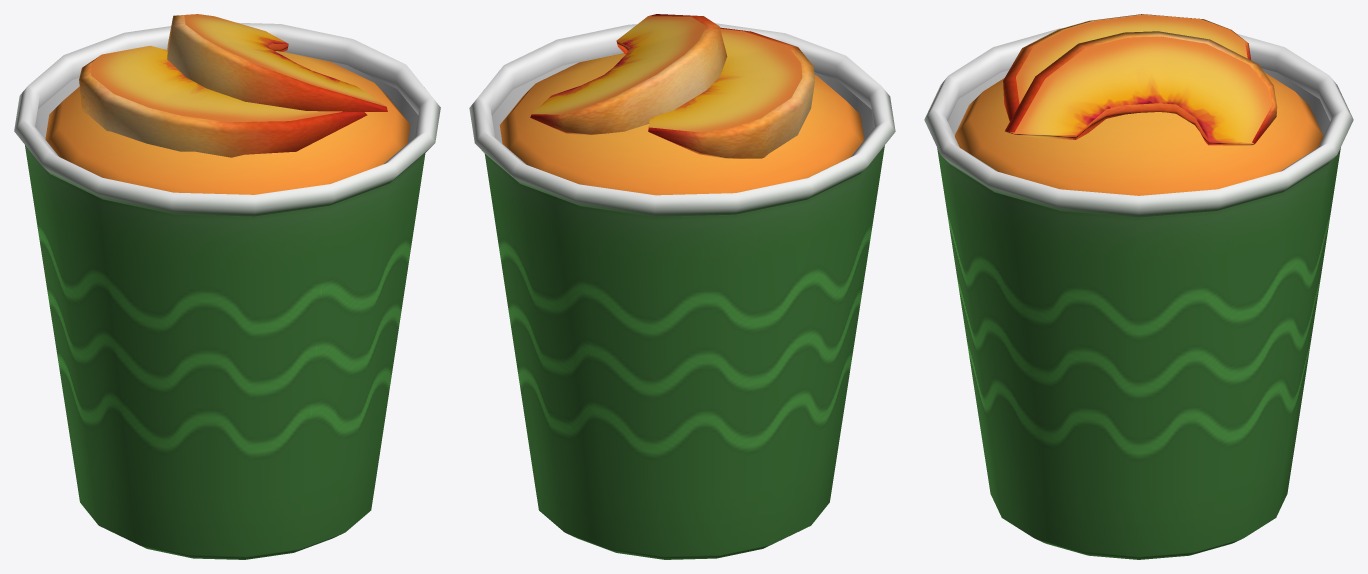
File: 011-Parfait_03.FBX
3 views of the same model, side by side, from view 1: azimuth 30°, elevation 25°; view 2: azimuth 150°, elevation 25°; view 3: azimuth 270°, elevation 25° (orthographic).
Visible parts, largest first — view 1: 011-Parfait_03-2, 011-Parfait_03-1; view 2: 011-Parfait_03-2, 011-Parfait_03-1; view 3: 011-Parfait_03-2, 011-Parfait_03-1.
Boxes of the visible parts, x1,y1,x2,y2 form: 011-Parfait_03-2: [14, 22, 440, 559]; 011-Parfait_03-1: [45, 14, 410, 194]; 011-Parfait_03-2: [469, 23, 895, 559]; 011-Parfait_03-1: [499, 14, 864, 195]; 011-Parfait_03-2: [924, 28, 1353, 559]; 011-Parfait_03-1: [955, 14, 1322, 195].
Size of the model in its own units: 14.13 by 16.74 by 14.13.
